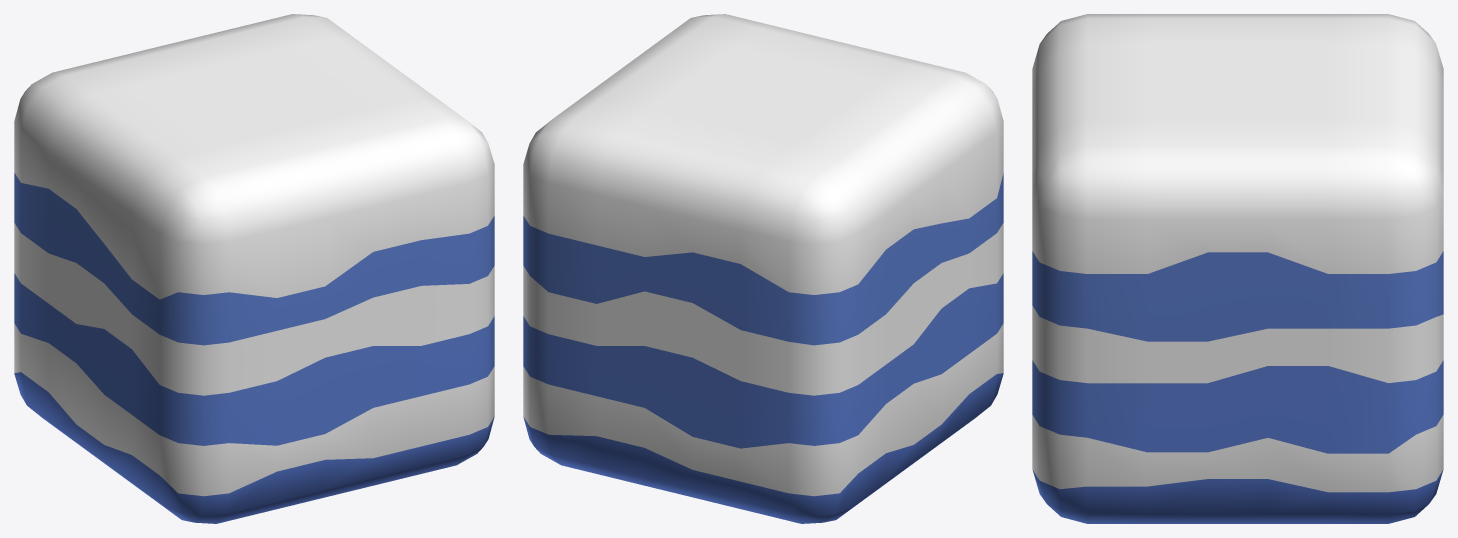
Rendered from Stone021.fbx.
3 renders of one model, left to right at view 1: azimuth 30°, elevation 25°; view 2: azimuth 150°, elevation 25°; view 3: azimuth 270°, elevation 25°, orthographic. The views are drawn at different scales.
Parts seen in each view (by area): view 1: Stone021; view 2: Stone021; view 3: Stone021.
Part boxes in pixels (bbox=[...]): Stone021: bbox=[14, 14, 494, 523]; Stone021: bbox=[523, 14, 1003, 523]; Stone021: bbox=[1032, 14, 1443, 523].
Size of the model in its own units: 156 by 156 by 156.
